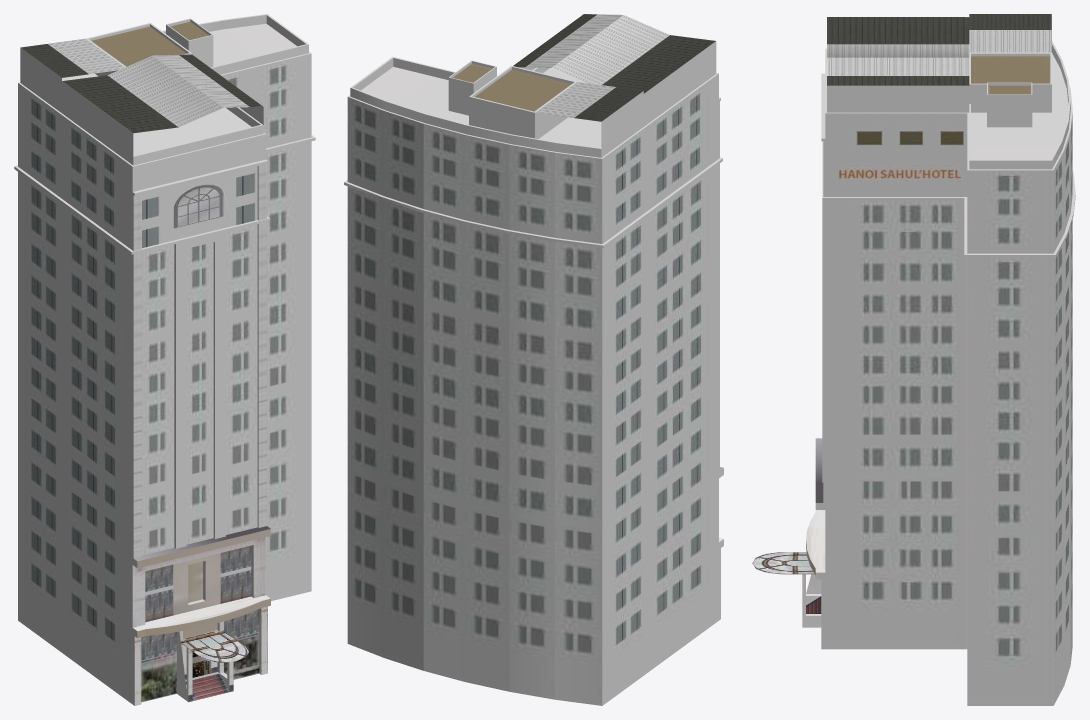
3 views of the same model, side by side, from view 1: azimuth 30°, elevation 25°; view 2: azimuth 150°, elevation 25°; view 3: azimuth 270°, elevation 25° (orthographic). The views are drawn at different scales.
Visible parts, largest first — view 1: HN048___A25_Sahul_Hotel; view 2: HN048___A25_Sahul_Hotel; view 3: HN048___A25_Sahul_Hotel.
Part boxes in pixels (x1,y1,x2,y2): HN048___A25_Sahul_Hotel: [14, 14, 315, 705]; HN048___A25_Sahul_Hotel: [344, 14, 723, 705]; HN048___A25_Sahul_Hotel: [752, 14, 1075, 705].
Size of the model in its own units: 26.06 by 55.94 by 28.69.
1 material, 1 textured.
